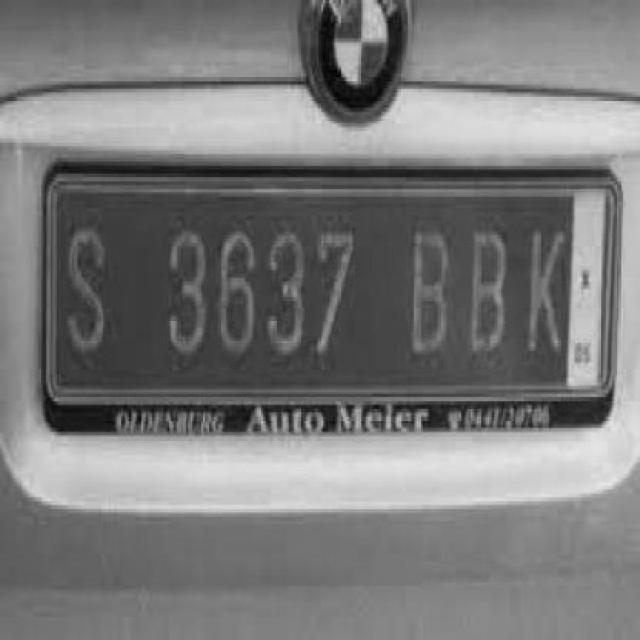licenseplate: (32, 150, 630, 450), (629, 193, 640, 449)
